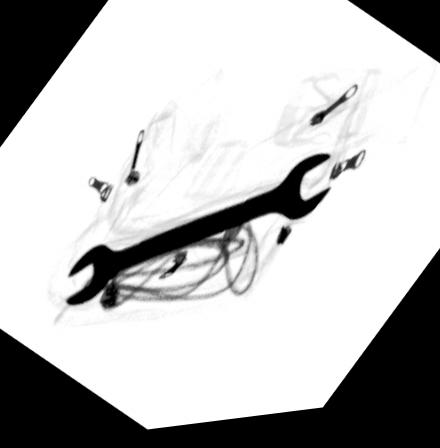Wrench: (61, 158, 333, 310)
